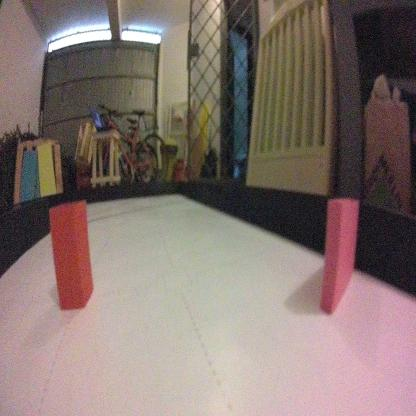magenta: (316, 194, 360, 318)
red: (47, 194, 95, 318)
